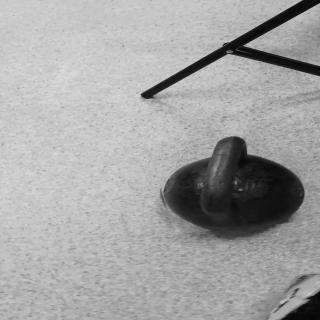kettlebell: (154, 135, 309, 233)
